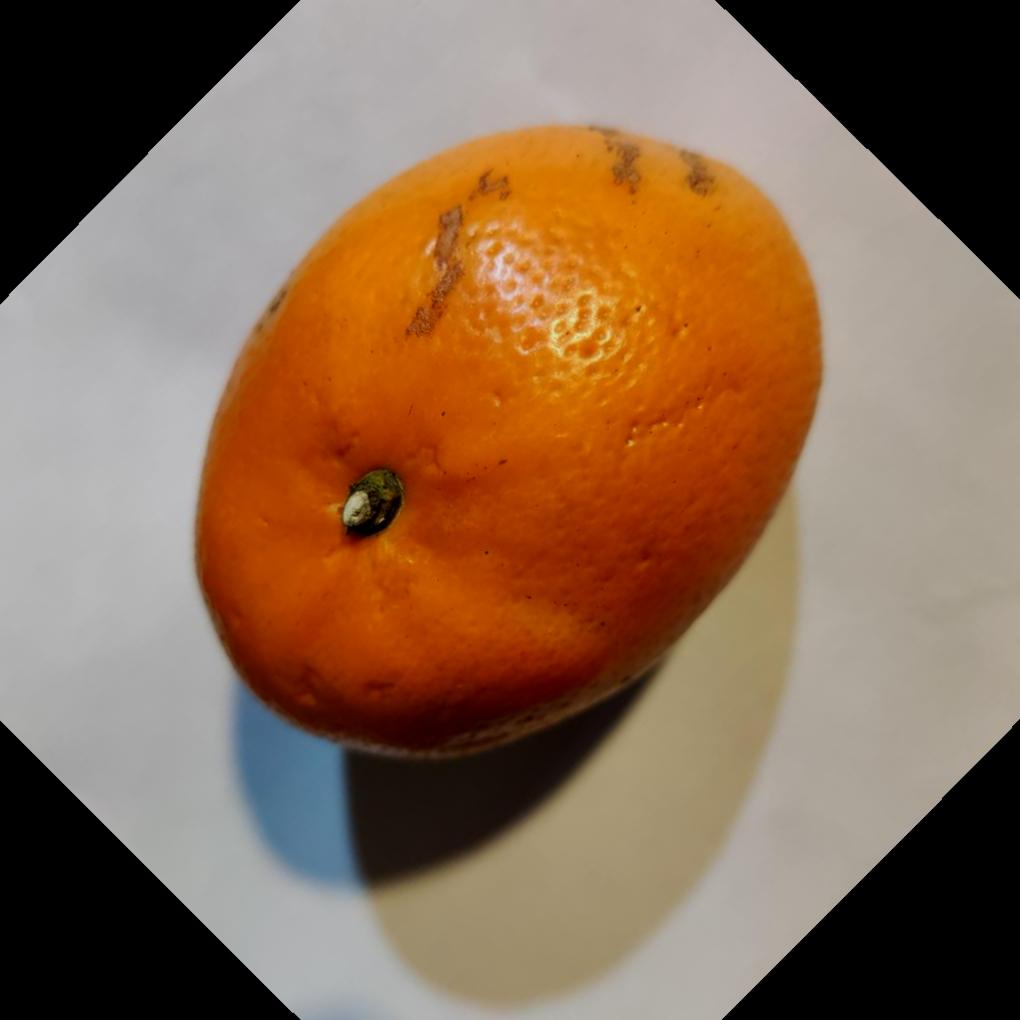FreshGuava: (189, 119, 823, 760)
